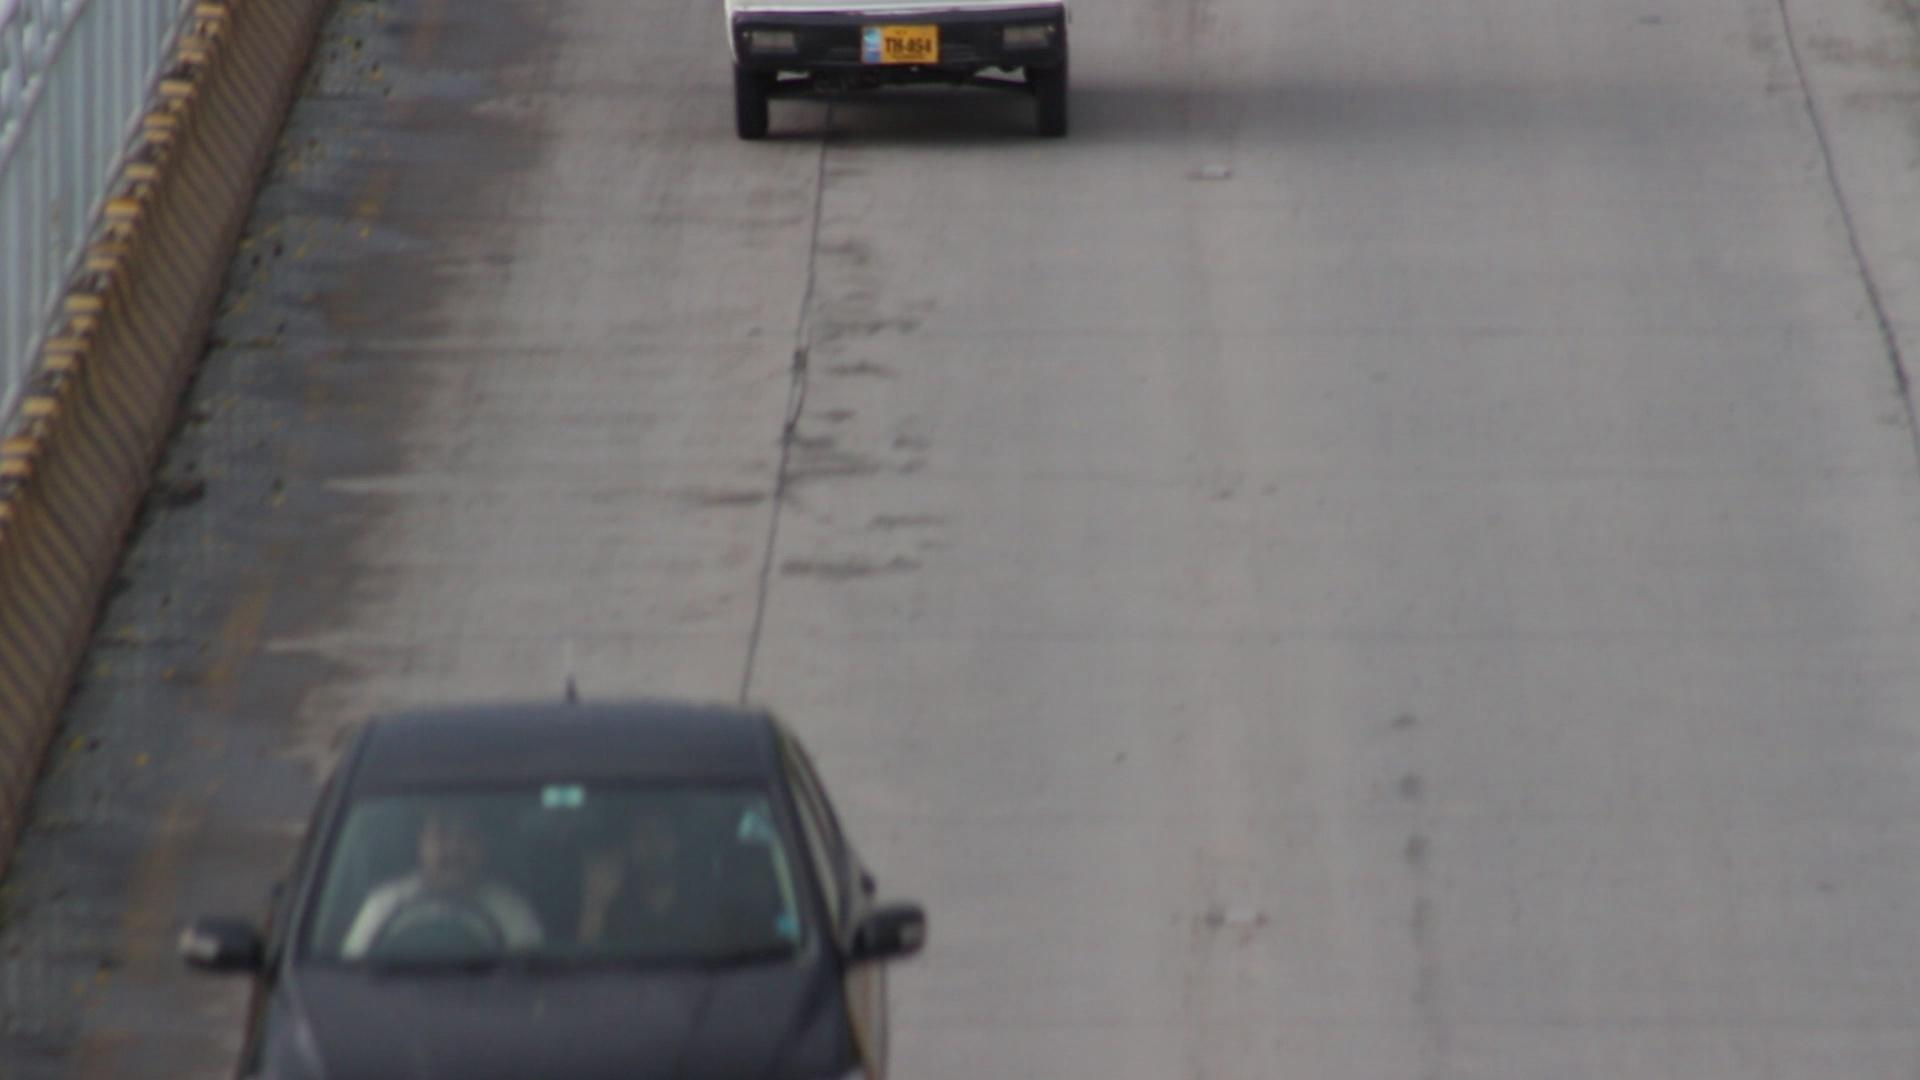windshield: (285, 760, 840, 980)
